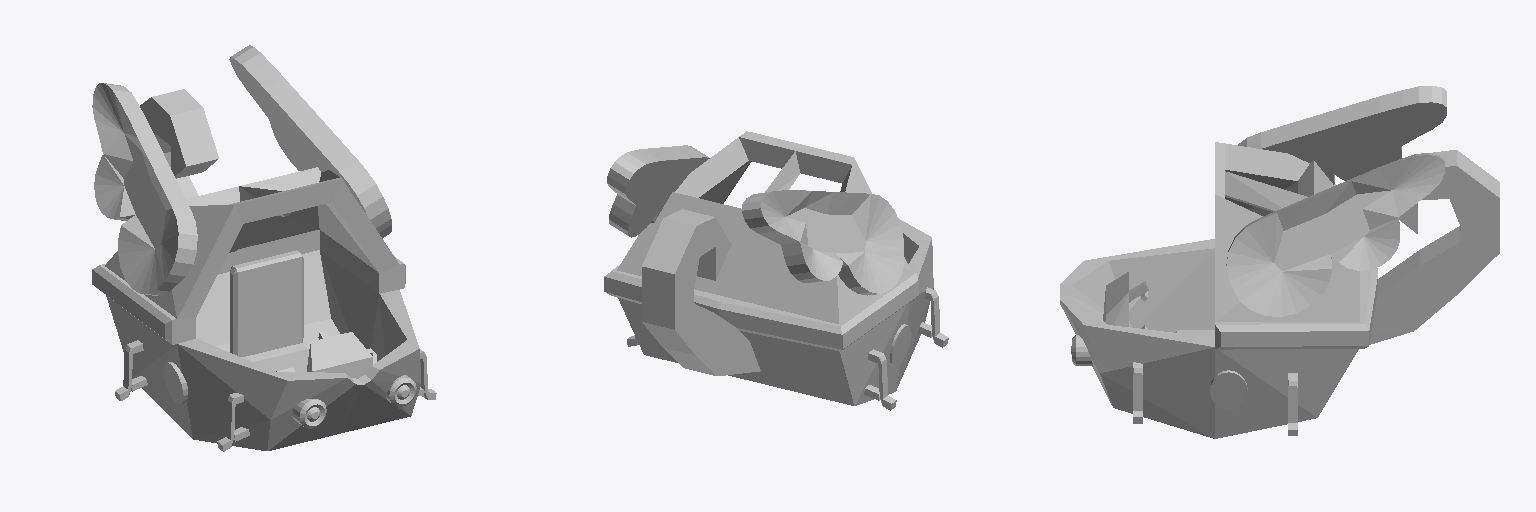
The model's file is squirtle_kart.obj.
3 views of the same model, side by side, from view 1: azimuth 30°, elevation 25°; view 2: azimuth 150°, elevation 25°; view 3: azimuth 270°, elevation 25° (orthographic).
Visible parts, largest first — view 1: kart:pCube8; view 2: kart:pCube8; view 3: kart:pCube8.
Part boxes in pixels (x1,y1,x2,y2): kart:pCube8: (92, 45, 436, 451); kart:pCube8: (604, 131, 948, 410); kart:pCube8: (1060, 86, 1499, 438).
Bounding box in the file's own units: 5.95 × 5.86 × 8.54.